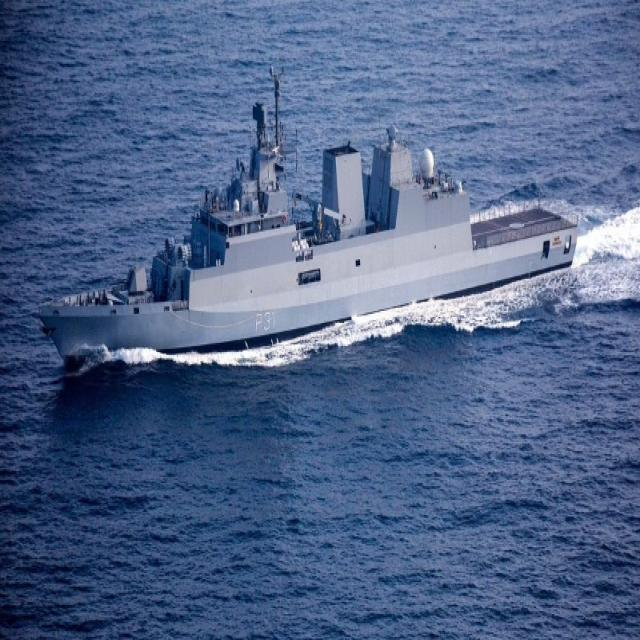Corvette-Kamorta-Class-IND: (34, 56, 578, 366)
